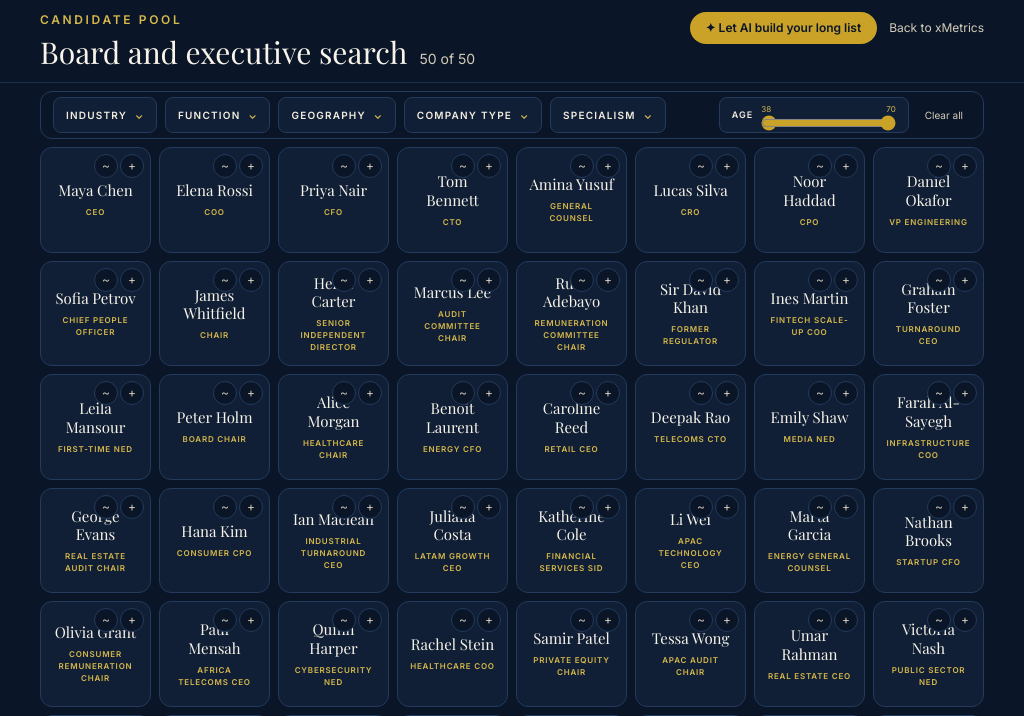
CandidatePoolPage › opens a candidate profile with their name and bio
Click the button with aria-label "Open profile for Maya Chen".
click(96, 200)  # box x1=41 y1=148 x2=150 y2=252
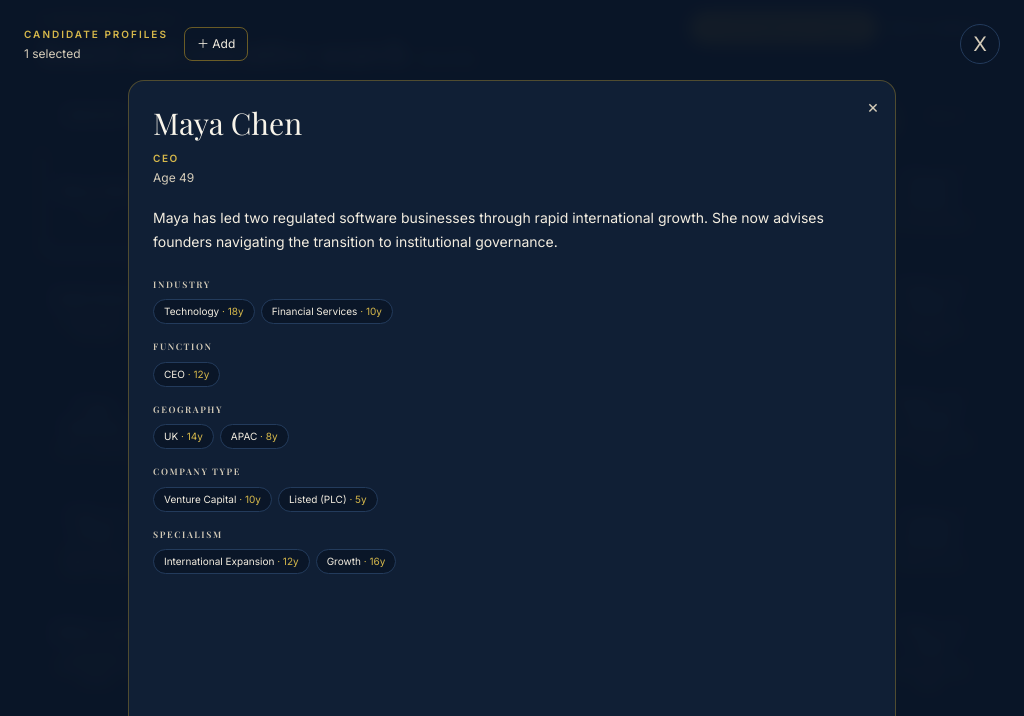
Expected: the heading "Maya Chen" is shown, x1=153 y1=103 x2=302 y2=143
Expected: the text "Maya has led two regulated software businesses through rapid international growth. She now advises founders navigating t" is shown, x1=153 y1=208 x2=824 y2=250
